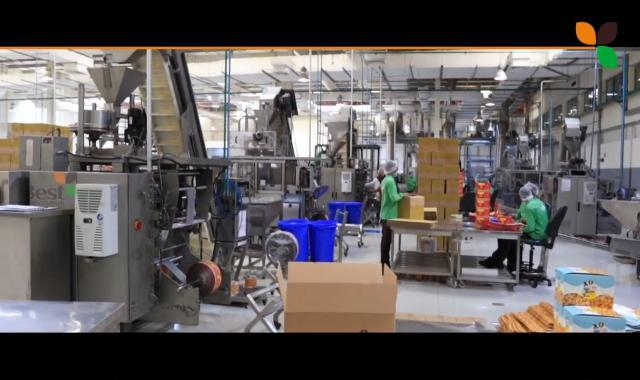Hairnet: (517, 181, 542, 201), (382, 156, 397, 174)
